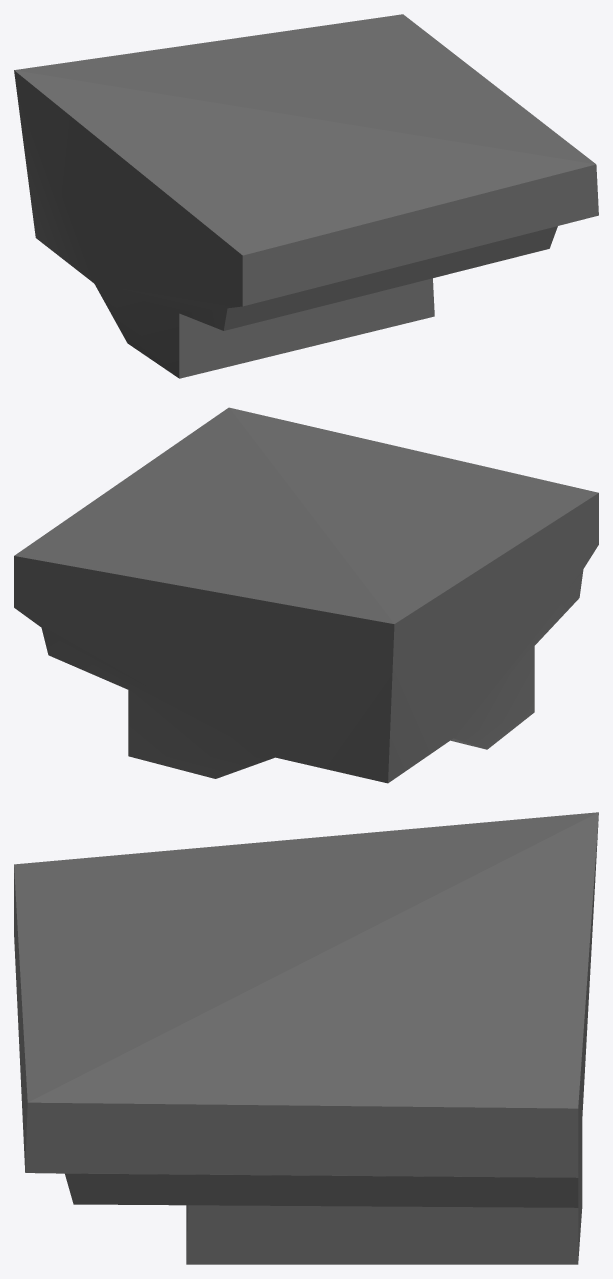
File: SM_Bld_Base_Roof_Trim_Corner_01.glb
3 views of the same model, one above another, from view 1: azimuth 30°, elevation 25°; view 2: azimuth 150°, elevation 25°; view 3: azimuth 270°, elevation 25° (orthographic). The views are drawn at different scales.
Parts seen in each view (by area): view 1: SM_Bld_Base_Roof_Trim_Corner_01; view 2: SM_Bld_Base_Roof_Trim_Corner_01; view 3: SM_Bld_Base_Roof_Trim_Corner_01.
Part boxes in pixels (x1=…): SM_Bld_Base_Roof_Trim_Corner_01: x1=14, y1=14, x2=598, y2=378; SM_Bld_Base_Roof_Trim_Corner_01: x1=14, y1=407, x2=598, y2=783; SM_Bld_Base_Roof_Trim_Corner_01: x1=14, y1=812, x2=598, y2=1264.
Size of the model in its own units: 0.3248 by 0.1636 by 0.3169.
1 material, 1 textured.
